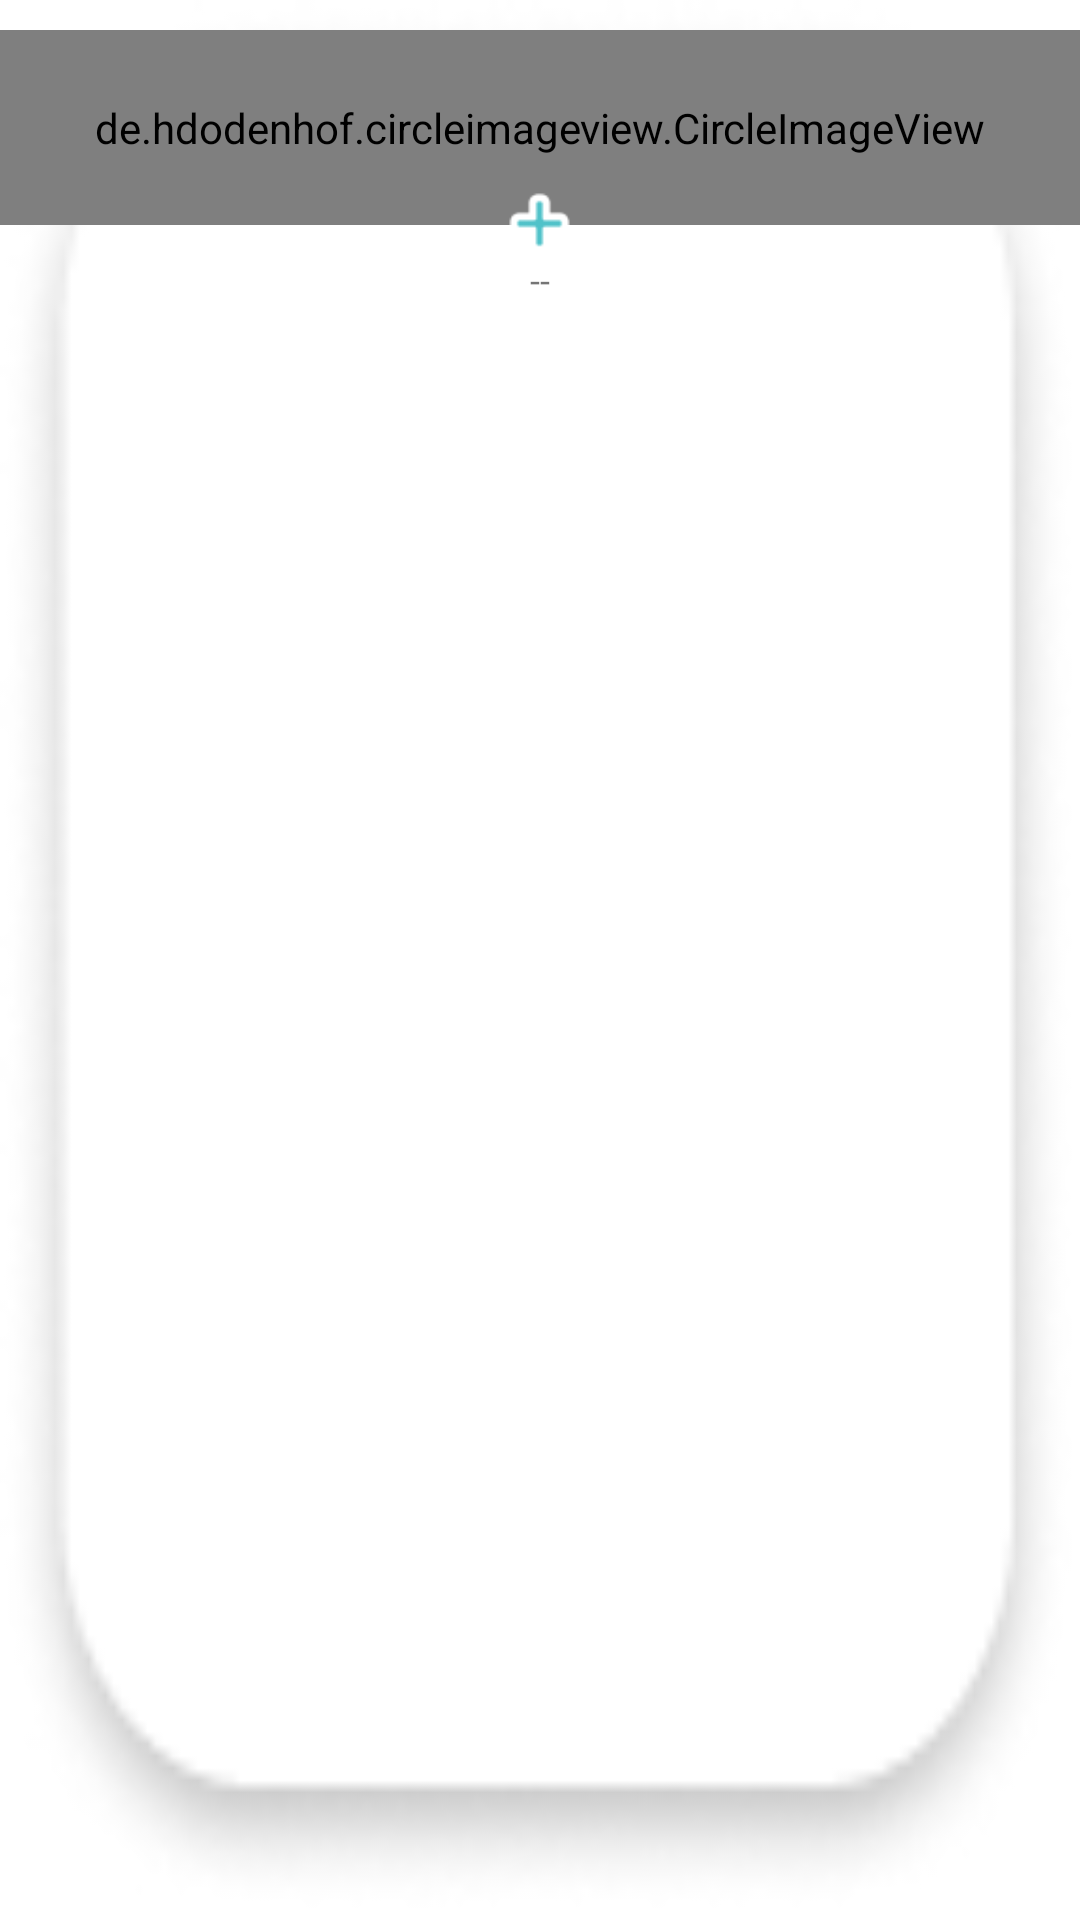

Icons on this 1080*1920 Android screen, each with the point to tap as point (x, y):
add: point (539, 223)
